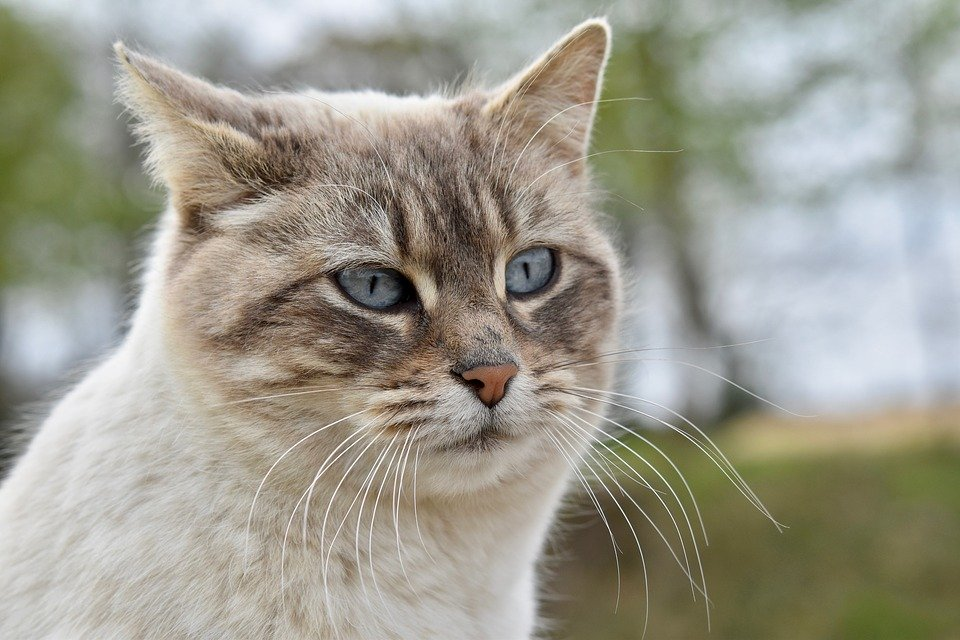cat-face: (100, 13, 801, 615)
